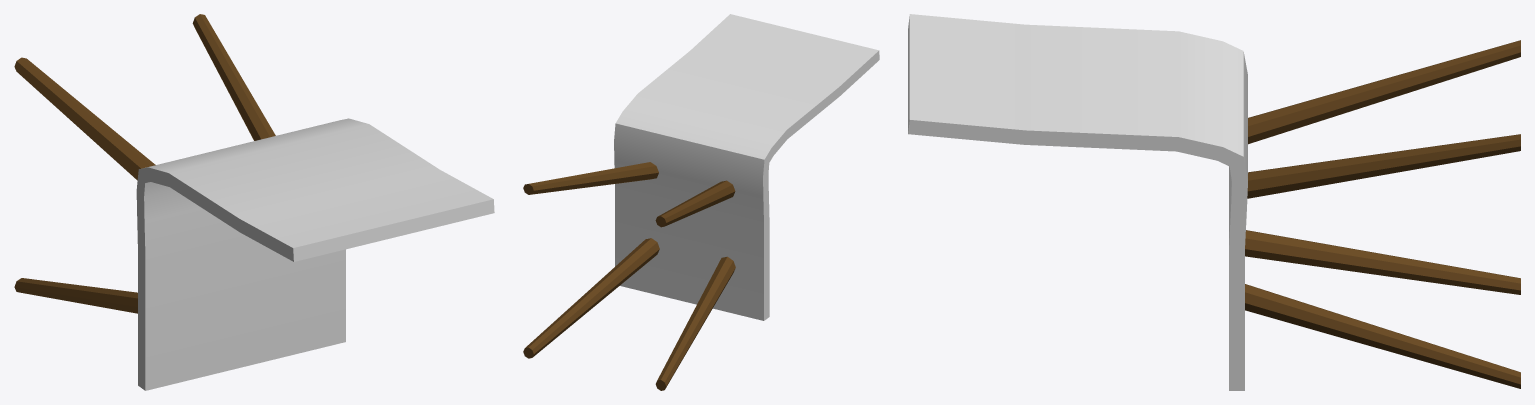
Rendered from Chair_1.obj.
The picture shows the model from 3 angles, left to right: view 1: azimuth 30°, elevation 25°; view 2: azimuth 150°, elevation 25°; view 3: azimuth 270°, elevation 25°; orthographic projection. The views are drawn at different scales.
Parts seen in each view (by area): view 1: Chair_1; view 2: Chair_1; view 3: Chair_1.
Boxes of the visible parts, x1=… form: Chair_1: x1=14, y1=14, x2=494, y2=390; Chair_1: x1=523, y1=14, x2=879, y2=390; Chair_1: x1=908, y1=14, x2=1520, y2=390.
Size of the model in its own units: 0.5481 by 0.6641 by 1.34.
